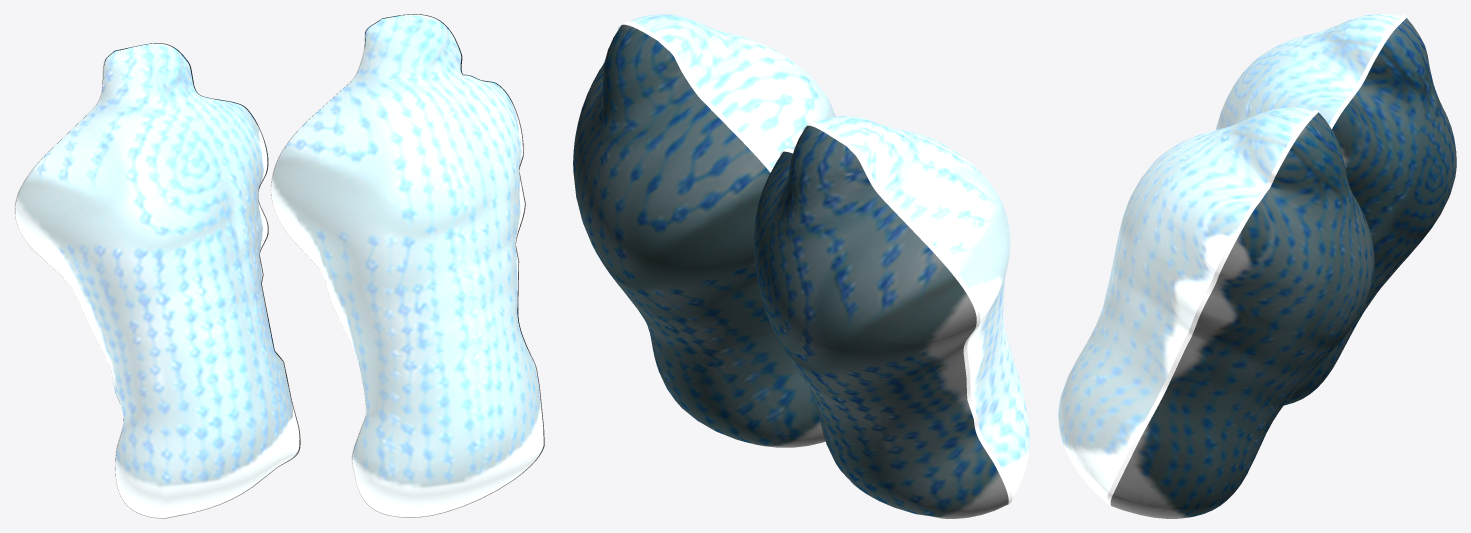
File: kropp.glb
3 views of the same model, side by side, from view 1: azimuth 30°, elevation 25°; view 2: azimuth 150°, elevation 25°; view 3: azimuth 270°, elevation 25° (orthographic). The views are drawn at different scales.
Visible parts, largest first — view 1: Lager 1; view 2: Lager 1; view 3: Lager 1.
Part boxes in pixels (x1,y1,x2,y2): Lager 1: [14, 14, 544, 518]; Lager 1: [573, 14, 1029, 518]; Lager 1: [1058, 14, 1456, 518].
Size of the model in its own units: 0.6989 by 0.6625 by 0.5753.
Materials: 3 (3 with a texture image).
